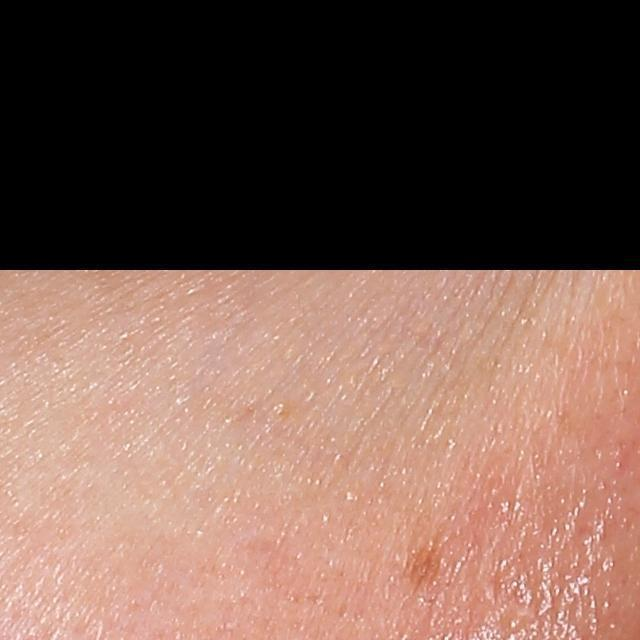melasma: (400, 536, 441, 589)
